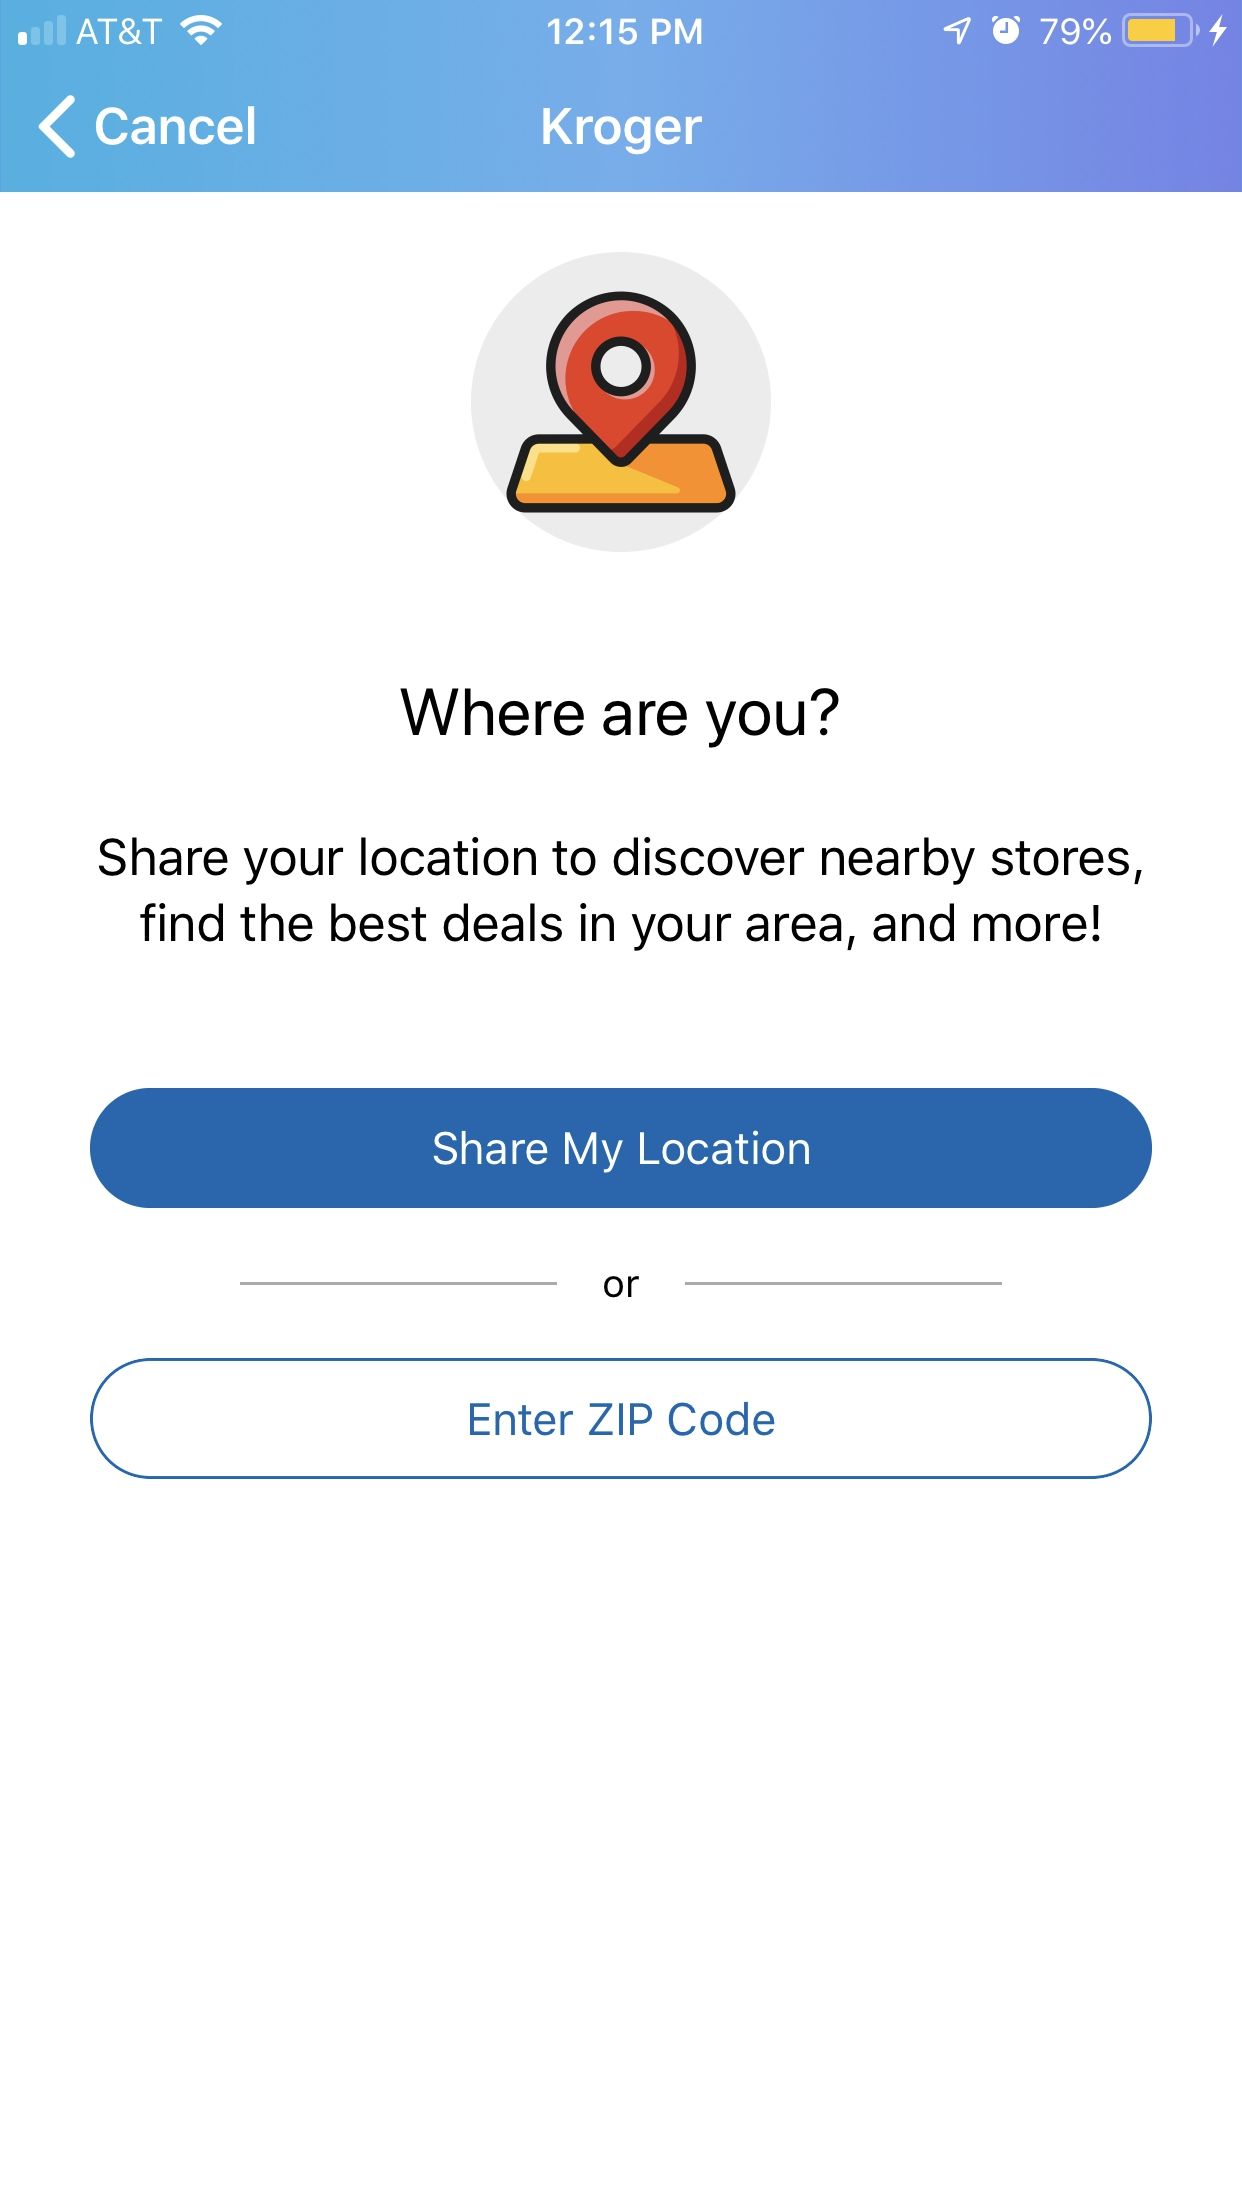Icon: (38, 96, 77, 161)
Image: (470, 252, 772, 554)
Text: (99, 836, 1143, 952), (400, 688, 840, 751), (541, 108, 704, 156), (96, 105, 256, 147), (604, 1275, 641, 1300)
TextButton: (89, 1357, 1153, 1482), (89, 1087, 1153, 1209)
UpperTaskBar: (2, 2, 1242, 49)
